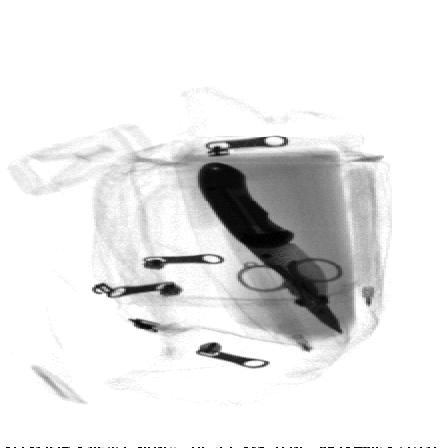Knife: (195, 161, 330, 306)
Scissors: (233, 257, 348, 335)
